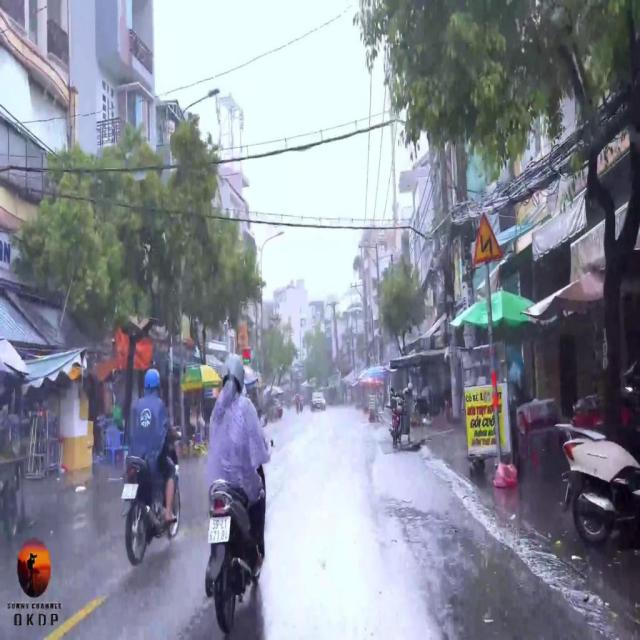cho_ngoat_nguy_hiem_lien_tiep: (472, 210, 503, 266)
